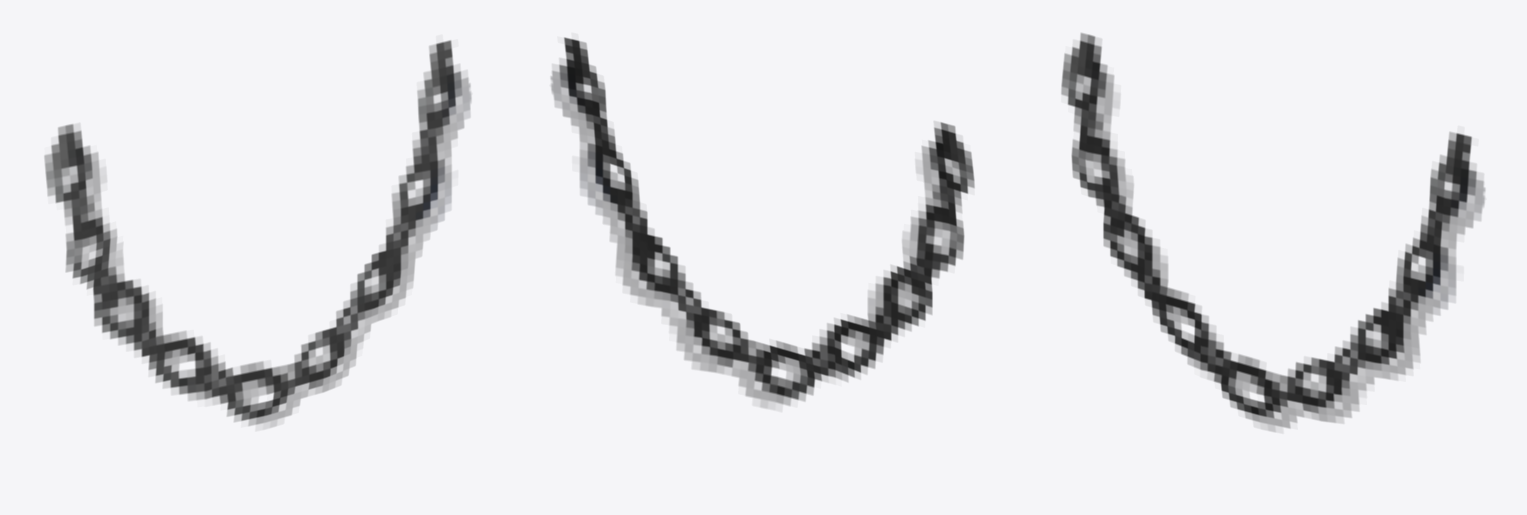
File: Chaine.glb
3 renders of one model, left to right at view 1: azimuth 30°, elevation 25°; view 2: azimuth 150°, elevation 25°; view 3: azimuth 330°, elevation 25°, orthographic.
Parts seen in each view (by area): view 1: chaine; view 2: chaine; view 3: chaine.
Part boxes in pixels (<box>): chaine: <box>44,40,471,428</box>; chaine: <box>551,37,974,408</box>; chaine: <box>1061,33,1484,431</box>.
Size of the model in its own units: 2 by 1.5 by 0.1293.
Materials: 1 (1 with a texture image).
